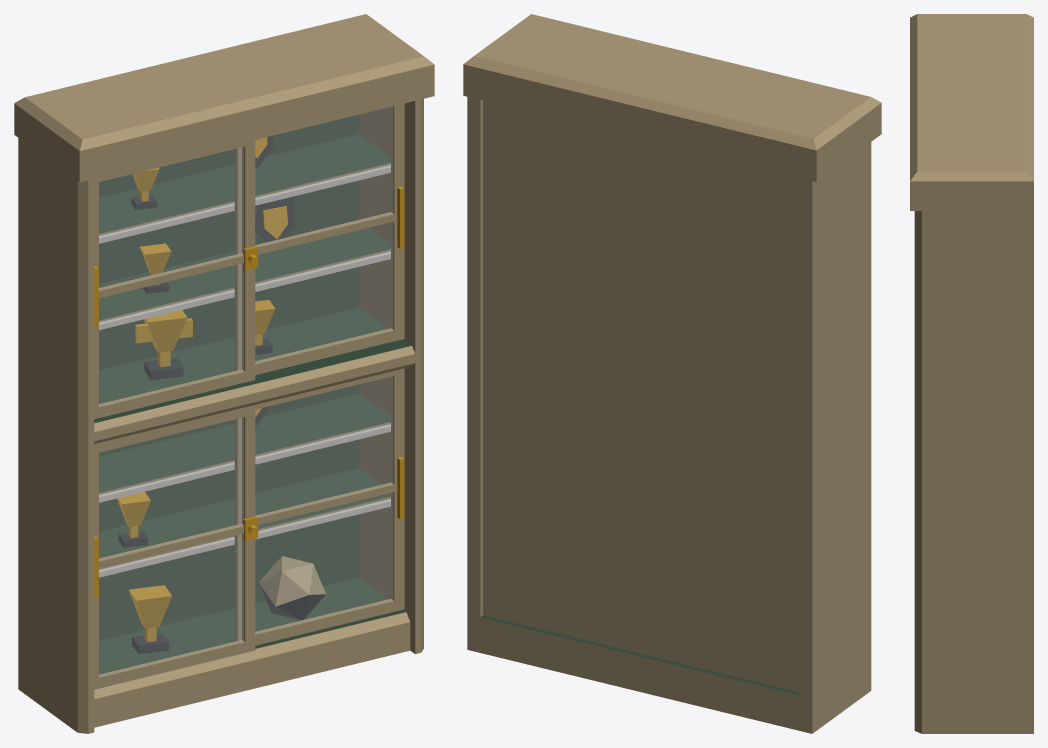
The model's file is trophy-cabinet-e963ac.glb.
The picture shows the model from 3 angles, left to right: view 1: azimuth 30°, elevation 25°; view 2: azimuth 150°, elevation 25°; view 3: azimuth 270°, elevation 25°; orthographic projection. The views are drawn at different scales.
Parts seen in each view (by area): view 1: trophy-cabinet, pane-upper-l, pane-lower-l, pane-lower-r, pane-upper-r, door-lower-l, door-lower-r, door-upper-l, door-upper-r, football; view 2: trophy-cabinet; view 3: trophy-cabinet.
Boxes of the visible parts, x1,y1,x2,y2 form: trophy-cabinet: (14, 14, 434, 733); pane-upper-l: (99, 147, 243, 405); pane-lower-l: (99, 417, 243, 676); pane-lower-r: (255, 376, 392, 633); pane-upper-r: (255, 106, 392, 362); door-lower-l: (94, 405, 258, 689); door-lower-r: (234, 368, 404, 645); door-upper-l: (94, 140, 258, 419); door-upper-r: (234, 103, 404, 374); football: (258, 556, 325, 620); trophy-cabinet: (463, 14, 881, 733); trophy-cabinet: (910, 14, 1033, 733).
Bounding box in the file's own units: 1.25 × 2 × 0.4.
